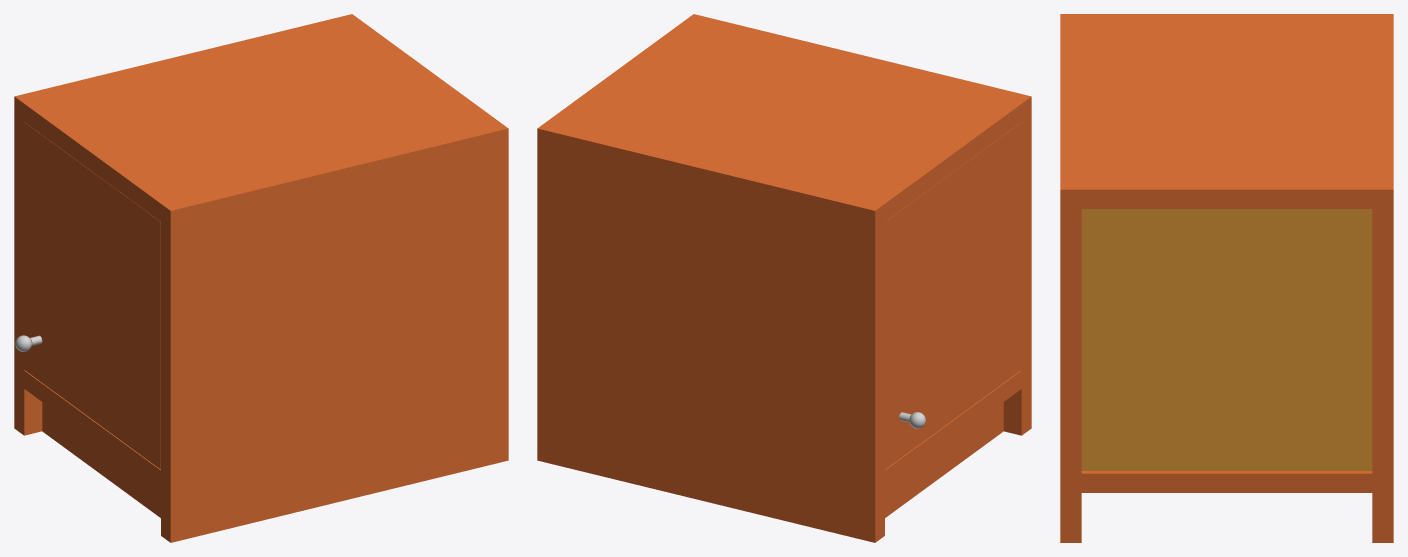
File: Wardrobe_Low_R_01.fbx
The picture shows the model from 3 angles, left to right: view 1: azimuth 30°, elevation 25°; view 2: azimuth 150°, elevation 25°; view 3: azimuth 270°, elevation 25°; orthographic projection. The views are drawn at different scales.
Parts seen in each view (by area): view 1: Cube, Cube.001; view 2: Cube, Cube.001; view 3: Cube, Cube.002.
Boxes of the visible parts, <box> form: Cube: <box>14,14,508,542</box>; Cube.001: <box>23,122,160,469</box>; Cube: <box>537,14,1031,542</box>; Cube.001: <box>884,122,1021,469</box>; Cube: <box>1060,14,1393,542</box>; Cube.002: <box>1081,209,1372,470</box>.
Size of the model in its own units: 107 by 93.91 by 80.19.
